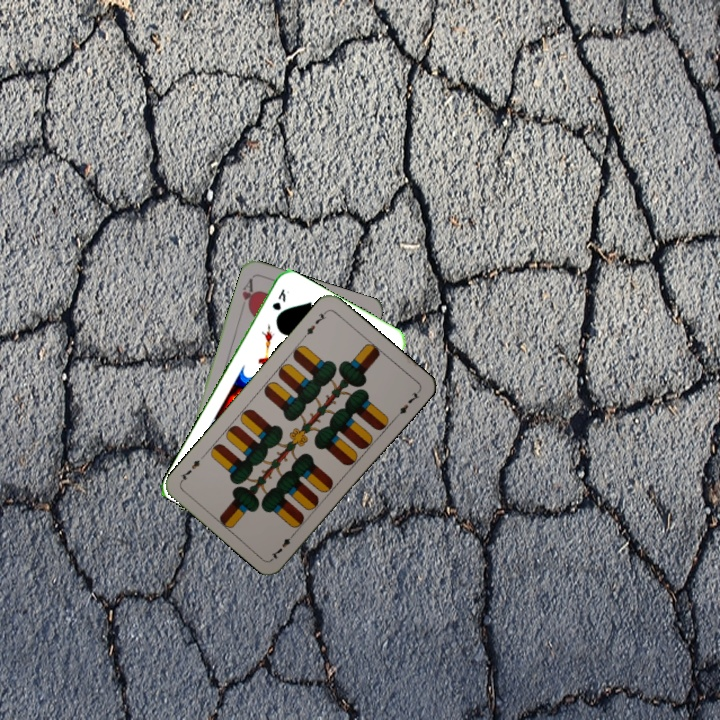E7: (267, 528, 298, 562), (299, 307, 329, 341)
GK: (268, 285, 288, 313)
HA: (238, 274, 258, 314)
